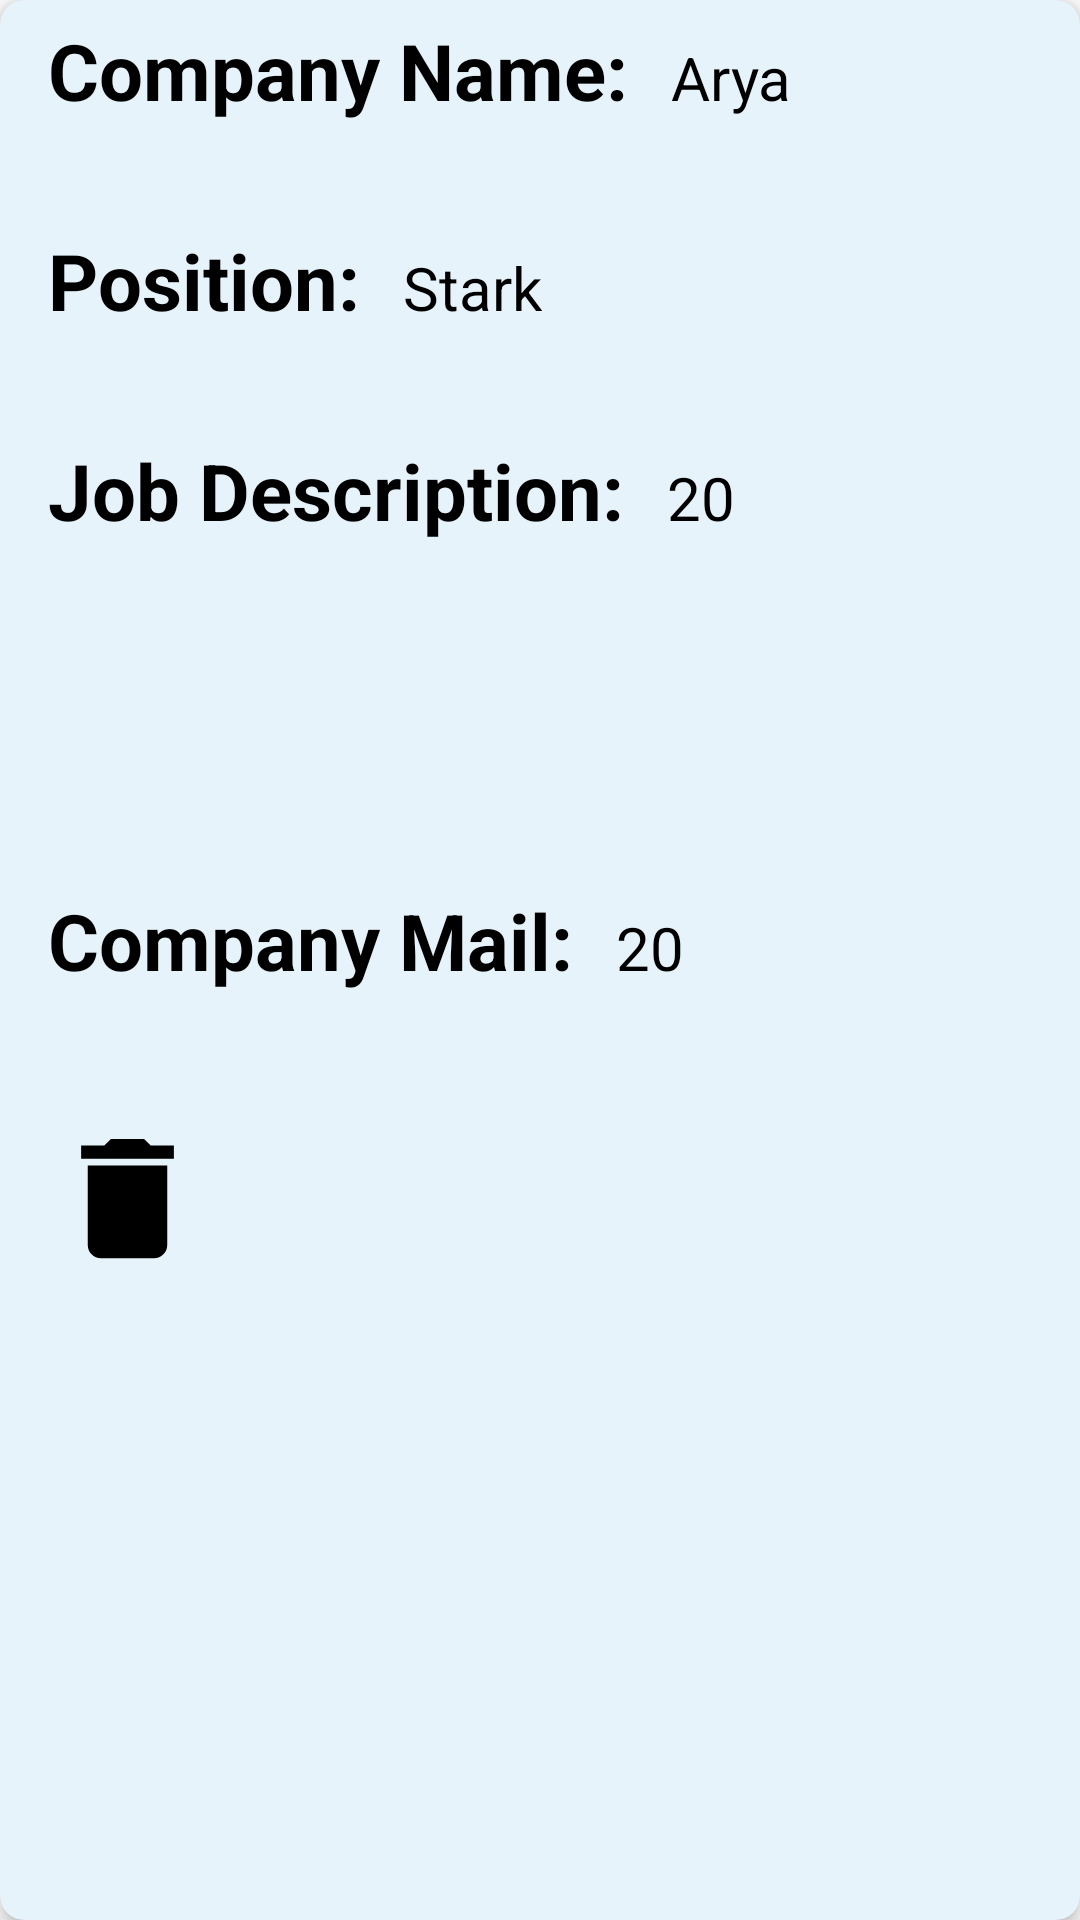

Screen size 1080 × 1920. Icon name, then its box in pixels as (x1, y1, x2, y2):
delete: (81, 1139, 174, 1259)
